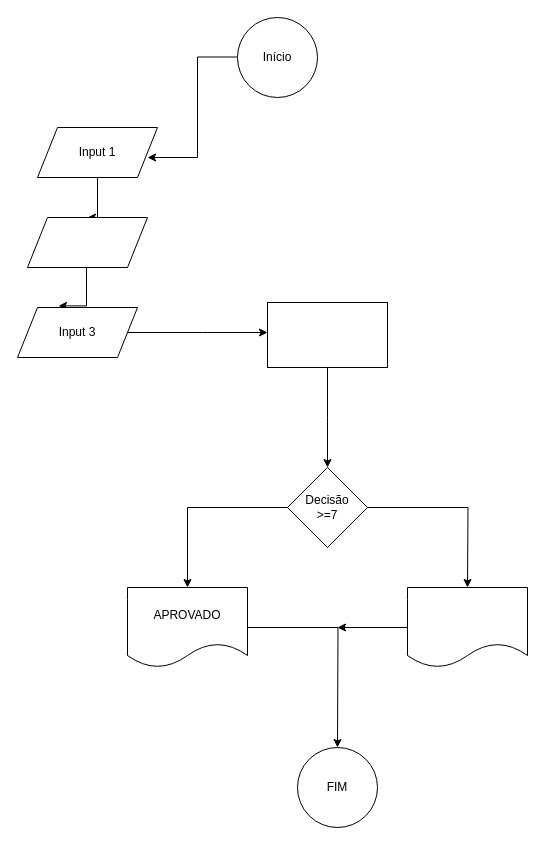
The diagram is 545 pixels wide and 845 high, and some of its shapes have lost their labels. The centre of each missing label's shape, as x and y in pixels:
Input 2: (87,242)
MÉDIA n1 + n2 + n3 / 3: (327,335)
REPROVADO: (467,627)
